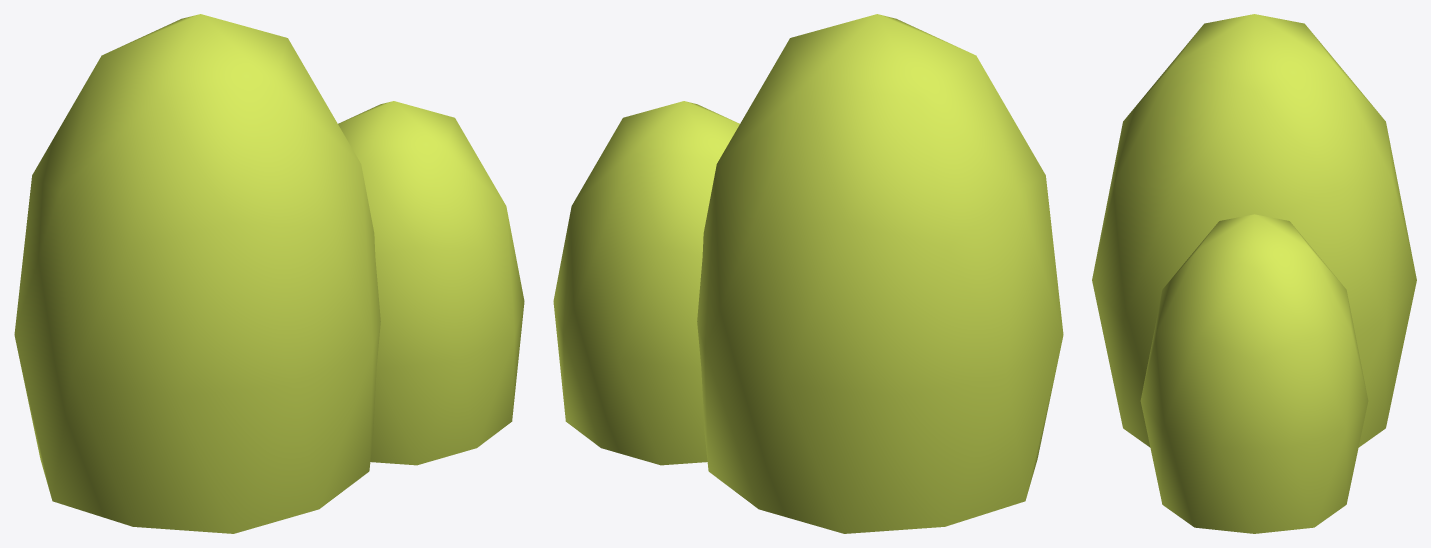
The model's file is Shrub_002.fbx.
3 views of the same model, side by side, from view 1: azimuth 30°, elevation 25°; view 2: azimuth 150°, elevation 25°; view 3: azimuth 270°, elevation 25° (orthographic). The views are drawn at different scales.
Visible parts, largest first — view 1: Shrub_002; view 2: Shrub_002; view 3: Shrub_002.
Boxes of the visible parts, x1,y1,x2,y2 form: Shrub_002: (14, 14, 524, 533); Shrub_002: (553, 14, 1063, 533); Shrub_002: (1092, 14, 1416, 533).
Bounding box in the file's own units: 640 × 598 × 445.
